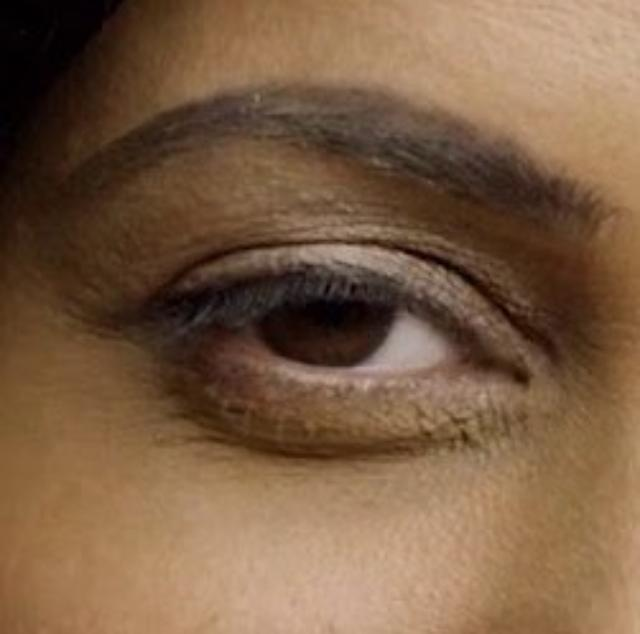eye: (258, 268, 398, 368)
